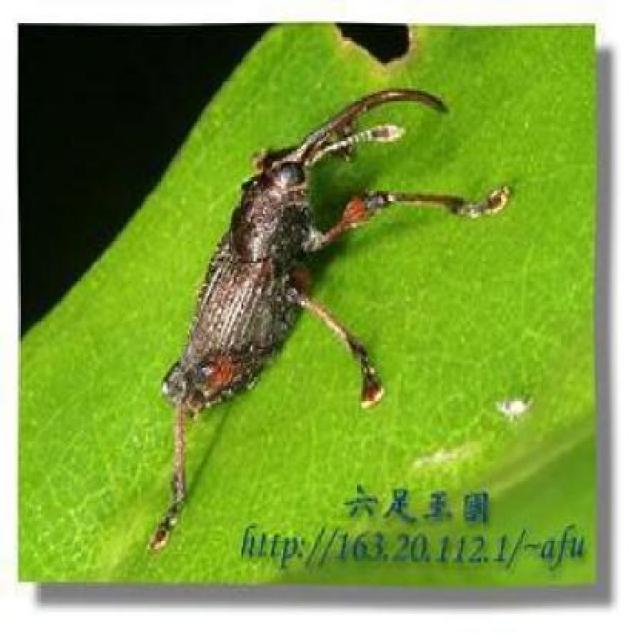rice-bug: (156, 94, 404, 449)
